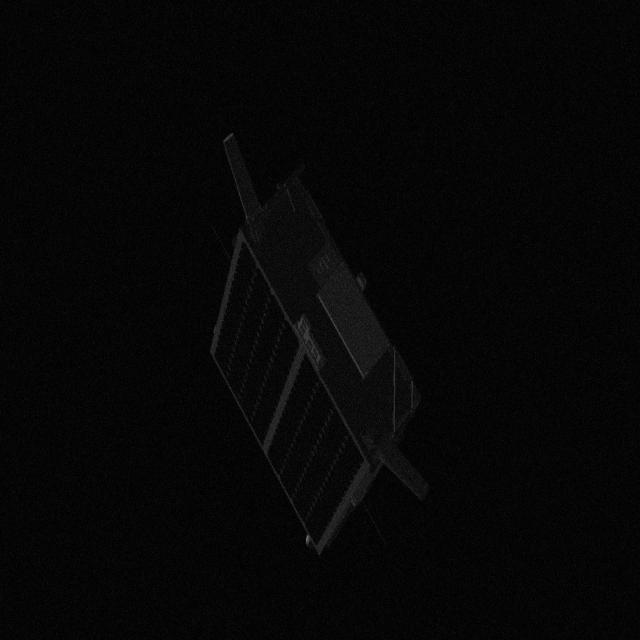satellite: (214, 128, 434, 560)
